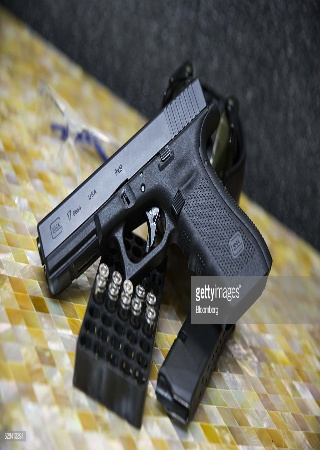handgun: (36, 65, 275, 322)
